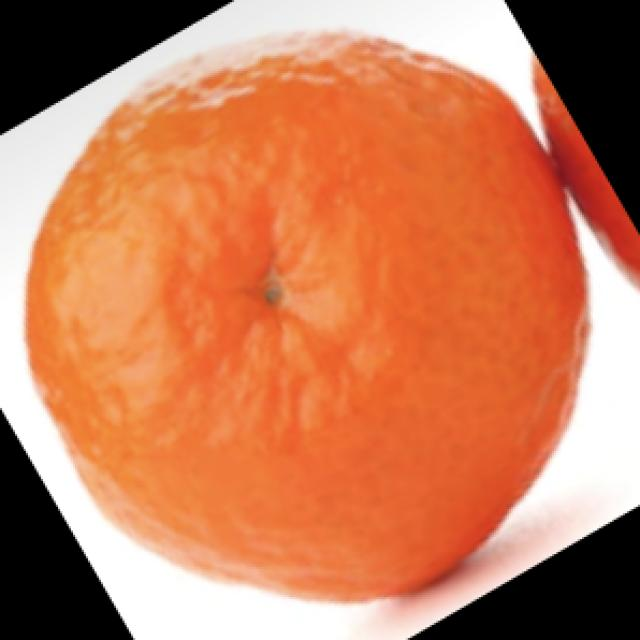matang: (21, 29, 582, 598)
